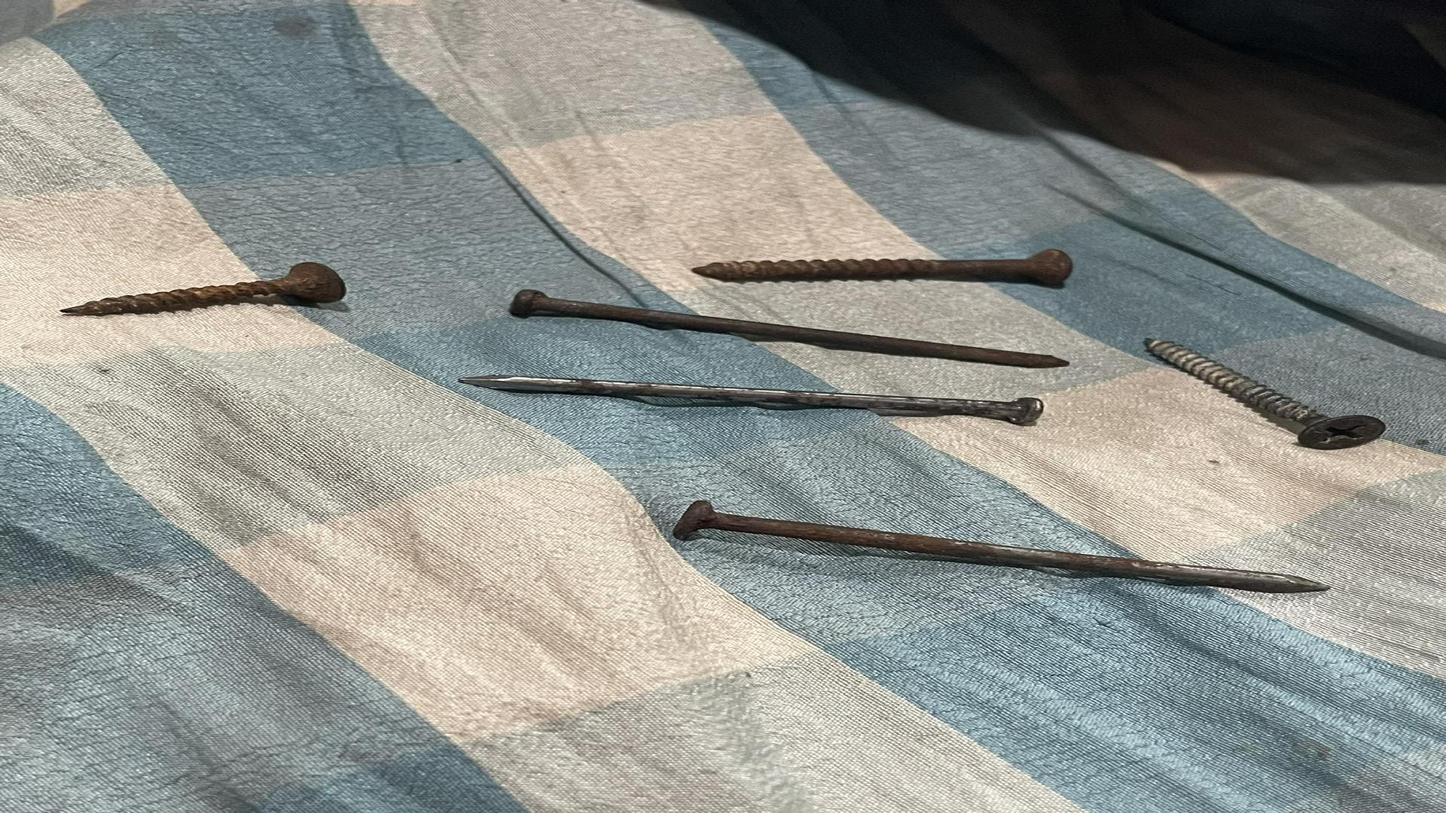nail: (599, 483, 1362, 615), (477, 274, 1095, 374), (408, 362, 1070, 434)
screw: (1111, 320, 1412, 464), (643, 224, 1136, 291), (32, 242, 411, 322)
